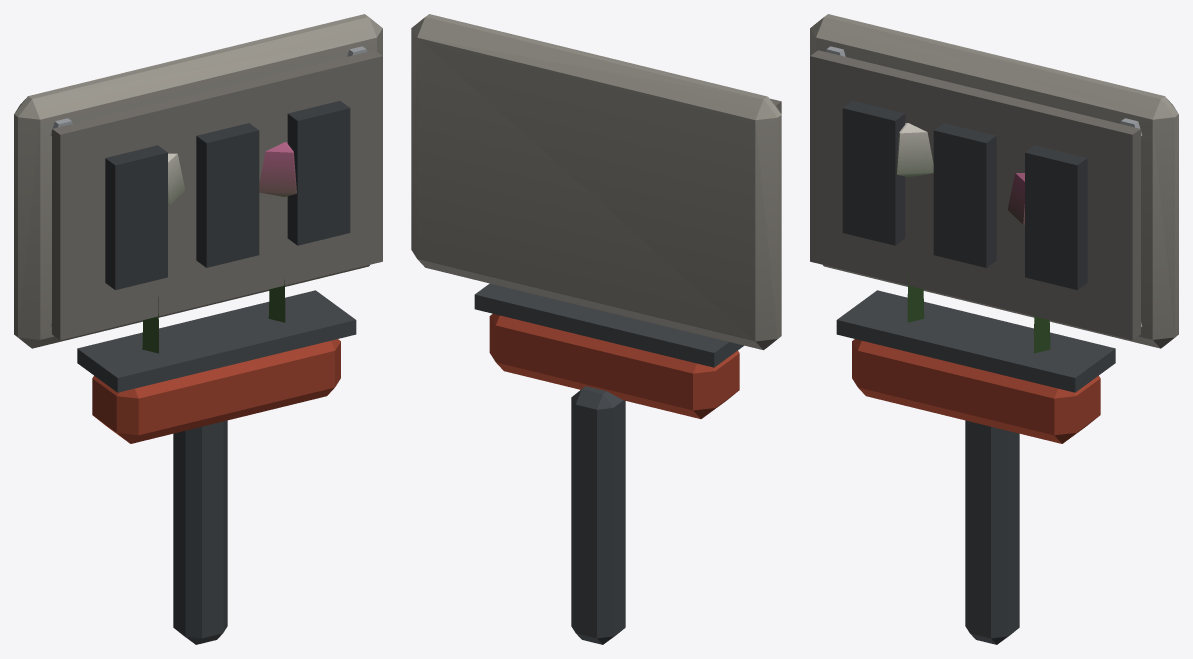
Rendered from address_plaque.glb.
3 renders of one model, left to right at view 1: azimuth 30°, elevation 25°; view 2: azimuth 150°, elevation 25°; view 3: azimuth 330°, elevation 25°, orthographic.
Parts seen in each view (by area): view 1: address_plaque; view 2: address_plaque; view 3: address_plaque.
Boxes of the visible parts, x1=… form: address_plaque: x1=14, y1=14, x2=382, y2=644; address_plaque: x1=411, y1=14, x2=781, y2=644; address_plaque: x1=810, y1=14, x2=1178, y2=644.
Size of the model in its own units: 0.52 by 0.79 by 0.12.
